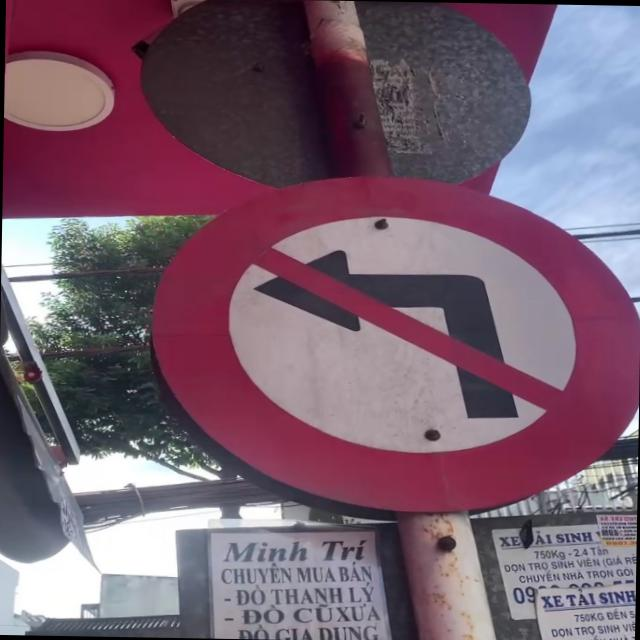Cam_Re_Trai: (146, 170, 640, 518)
